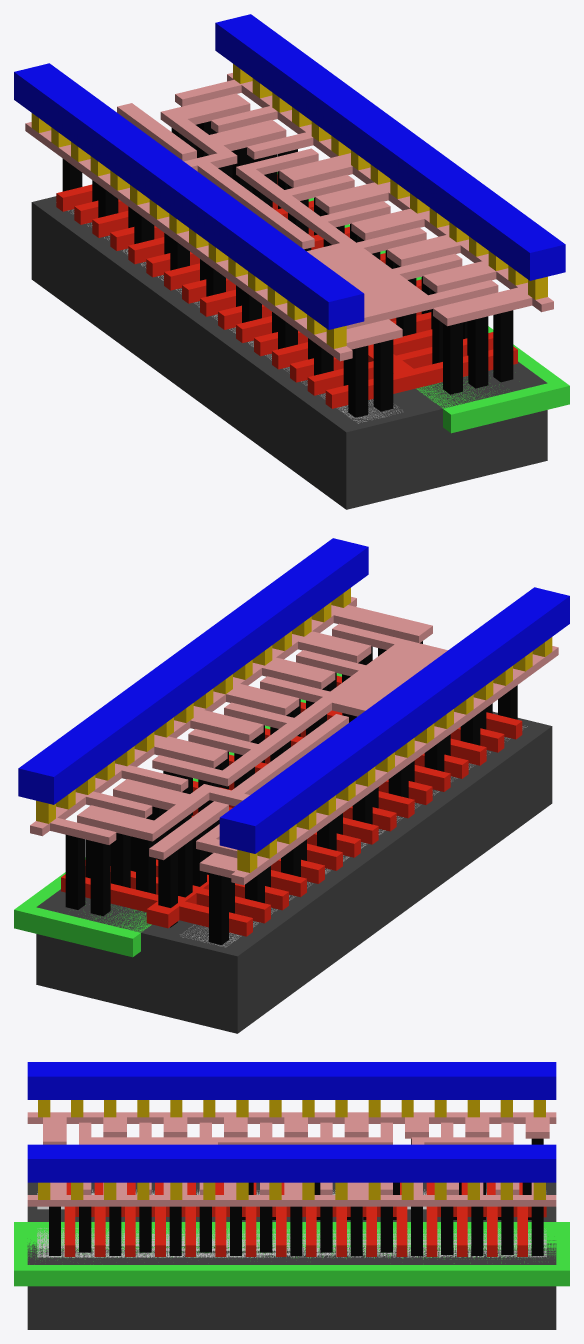
The model's file is sky130_fd_sc_hd__buf_12.obj.
3 renders of one model, top to bottom at view 1: azimuth 30°, elevation 25°; view 2: azimuth 150°, elevation 25°; view 3: azimuth 270°, elevation 25°, orthographic. The views are drawn at different scales.
Visible parts, largest first — view 1: subs, metal1, li, licon, poly, mcon, nwell; view 2: subs, metal1, li, licon, poly, mcon, nwell; view 3: metal1, subs, li, nwell, poly, licon, mcon, tap.
Boxes of the visible parts, <box> form: subs: <box>31,196,547,509</box>; metal1: <box>14,14,565,329</box>; li: <box>25,73,553,361</box>; licon: <box>62,106,513,417</box>; poly: <box>56,174,517,408</box>; mcon: <box>31,64,547,348</box>; nwell: <box>277,172,569,433</box>; subs: <box>36,711,552,1033</box>; metal1: <box>18,538,569,853</box>; li: <box>30,597,558,885</box>; licon: <box>65,641,517,945</box>; poly: <box>61,675,522,936</box>; mcon: <box>36,588,552,872</box>; nwell: <box>14,673,341,957</box>; metal1: <box>27,1062,556,1182</box>; subs: <box>27,1182,556,1329</box>; li: <box>27,1112,556,1206</box>; nwell: <box>14,1222,569,1286</box>; poly: <box>64,1182,546,1256</box>; licon: <box>49,1138,543,1255</box>; mcon: <box>38,1100,545,1199</box>; tap: <box>37,1228,546,1257</box>.
Size of the model in its own units: 3.2 by 2.74 by 7.74.
